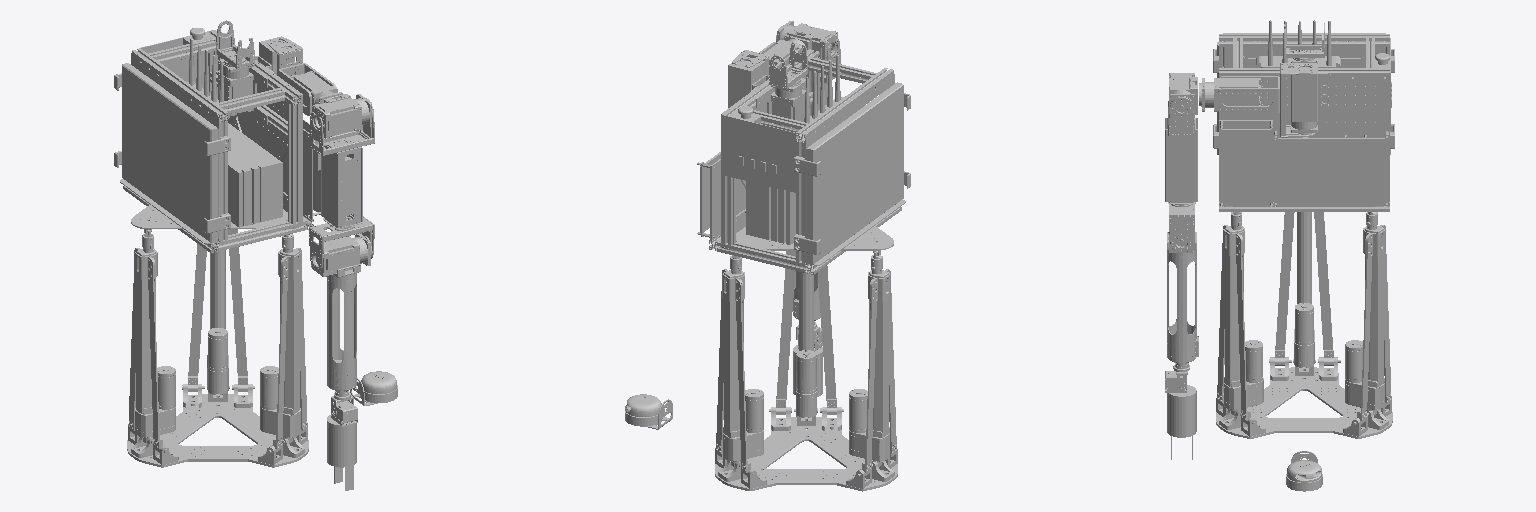
The robot description file, URDF, robot "hrvl_gbot":
<?xml version="1.0" ?>
<robot name="hrvl_gbot">
    <material name="orange">
        <color rgba="0.57 0.17 0.0 1.0" />
    </material>
    <material name="white">
        <color rgba="0.8 0.8 0.8 1.0" />
    </material>
    <material name="whiteT">
        <color rgba="0.8 0.8 0.8 0.5" />
    </material>
    <material name="steel">
        <color rgba="0.75 0.75 0.75 0.30" />
    </material>
    <material name="gray">
        <color rgba="0.2 0.2 0.2 0.9" />
    </material>
    <material name="black">
        <color rgba="0.0 0.0 0.0 1.0" />
    </material>

    <link name="base_footprint"/>
    <link name="base_link"/>
    <joint name="base_link_joint" type="fixed">
        <axis xyz="0 0 1" />
        <origin rpy="0 0 0" xyz="0 0 0.1" />
        <parent link="base_footprint" />
        <child link="base_link" />
    </joint>
    <link name="body_link">
        <visual>
            <geometry>
                <mesh filename="package://hrvl_gbot_description/stl/MobilePlatform_BodyOnly.STL" scale="0.001 0.001 0.001" />
            </geometry>
            <material name="white" />
            <origin rpy="0 -1.570796 3.141592" xyz="-0.2 0 0" />
        </visual>
        
        <inertial>
            <mass value="0.1" />
            <inertia ixx="0.03" iyy="0.03" izz="0.03" ixy="0.0" ixz="0.0" iyz="0.0" />
        </inertial>

    </link>
    <joint name="body_link_joint" type="fixed">
        <axis xyz="0 0 1" />
        <origin rpy="0 0 0" xyz="0 0 0" />
        <parent link="base_link" />
        <child link="body_link" />
    </joint>
    <!-- Sensors -->
    <link name="rotlidar_link">
        <visual>
            <geometry>
                <!--<cylinder length="0.055" radius=".075" /> -->
                <mesh filename="package://hrvl_gbot_description/stl/RotatingLidar3_front_only.STL" scale="0.001 0.001 0.001" />
            </geometry>
            <material name="white" />
            <origin rpy="0 0 0" xyz="-0.0513 -0.0278 -0.033" />
        </visual>
        
	<inertial>
            <mass value="0.1" />
            <inertia ixx="0.03" iyy="0.03" izz="0.03" ixy="0.0" ixz="0.0" iyz="0.0" />
        </inertial>

    </link>
    <joint name="rotlidar_joint" type="revolute">
        <axis xyz="1 0 0" />
        <limit effort="1000.0" lower="-3.141592" upper="3.141592" velocity="1.0" />
        <origin rpy="0 0 0" xyz="0.3133 0 0.26475" />
        <parent link="base_link" />
        <child link="rotlidar_link" />
    </joint>
    <link name="wheel1">
        <visual>
            <geometry>
                <mesh filename="package://hrvl_gbot_description/stl/MPO-500-WHEEL.dae" scale="-0.0006 0.0005 0.0006" />
            </geometry>
            <material name="white" />
            <origin rpy="0 0 0" xyz="0 0 0" />
        </visual>
        
	<inertial>
            <mass value="0.1" />
            <inertia ixx="0.03" iyy="0.03" izz="0.03" ixy="0.0" ixz="0.0" iyz="0.0" />
        </inertial>

    </link>
    <joint name="wheel1_joint" type="continuous">
        <axis xyz="0 1 0" />
        <limit effort="1000.0" velocity="1.0" />
        <origin rpy="0 0 0" xyz="0.20 0.225 -0.02" />
        <parent link="base_link" />
        <child link="wheel1" />
    </joint>
    <link name="wheel2">
        <visual>
            <geometry>
                <mesh filename="package://hrvl_gbot_description/stl/MPO-500-WHEEL.dae" scale="0.0006 0.0005 0.0006" />
            </geometry>
            <material name="white" />
            <origin rpy="0 0 0" xyz="0 0 0" />
        </visual>
        
	<inertial>
            <mass value="0.1" />
            <inertia ixx="0.03" iyy="0.03" izz="0.03" ixy="0.0" ixz="0.0" iyz="0.0" />
        </inertial>

    </link>
    <joint name="wheel2_joint" type="continuous">
        <axis xyz="0 1 0" />
        <limit effort="1000.0" velocity="1.0" />
        <origin rpy="0 0 0" xyz="0.20 -0.225 -0.02" />
        <parent link="base_link" />
        <child link="wheel2" />
    </joint>
    <link name="wheel3">
        <visual>
            <geometry>
                <mesh filename="package://hrvl_gbot_description/stl/MPO-500-WHEEL.dae" scale="0.0006 0.0005 0.0006" />
            </geometry>
            <material name="white" />
            <origin rpy="0 0 0" xyz="0 0 0" />
        </visual>
        
        <inertial>
            <mass value="0.1" />
            <inertia ixx="0.03" iyy="0.03" izz="0.03" ixy="0.0" ixz="0.0" iyz="0.0" />
        </inertial>

    </link>
    <joint name="wheel3_joint" type="continuous">
        <axis xyz="0 1 0" />
        <limit effort="1000.0" velocity="1.0" />
        <origin rpy="0 0 0" xyz="-0.20 0.225 -0.02" />
        <parent link="base_link" />
        <child link="wheel3" />
    </joint>
    <link name="wheel4">
        <visual>
            <geometry>
                <!--<cylinder length="0.055" radius=".075" /> -->
                <mesh filename="package://hrvl_gbot_description/stl/MPO-500-WHEEL.dae" scale="-0.0006 0.0005 0.0006" />
            </geometry>
            <material name="white" />
            <origin rpy="0 0 0" xyz="0 0 0" />
        </visual>
        
        <inertial>
            <mass value="0.1" />
            <inertia ixx="0.03" iyy="0.03" izz="0.03" ixy="0.0" ixz="0.0" iyz="0.0" />
        </inertial>

    </link>
    <joint name="wheel4_joint" type="continuous">
        <axis xyz="0 1 0" />
        <limit effort="1000.0" velocity="1.0" />
        <origin rpy="0 0 0" xyz="-0.20 -0.225 -0.02" />
        <parent link="base_link" />
        <child link="wheel4" />
    </joint>
    <link name="waist_link">
        <visual>
            <geometry>
                <mesh filename="package://hrvl_gbot_description/stl/Waist_Final_Simple.STL" scale="0.001 0.001 0.001" />
            </geometry>
            <material name="white" />
            <origin rpy="1.570796 0 1.570796 " xyz="-0.205 0 -0.136" />
        </visual>
        
        <inertial>
            <mass value="0.1" />
            <inertia ixx="0.03" iyy="0.03" izz="0.03" ixy="0.0" ixz="0.0" iyz="0.0" />
        </inertial>

    </link>
    <joint name="waist_link_joint" type="fixed">
        <axis xyz="0 0 1" />
        <origin rpy="0 0 0" xyz="-0.016 0 0.365" />
        <parent link="body_link" />
        <child link="waist_link" />
    </joint>
    <link name="torso_link_x" />
    <joint name="torso_joint_x" type="revolute">
        <axis xyz="1 0 0" />
        <origin rpy="0 0 0" xyz="-0.016 0 0.730" />
        <limit effort="1000.0" lower="-3.141592" upper="3.141592" velocity="1.0" />
        <parent link="base_link" />
        <child link="torso_link_x" />
    </joint>
    <link name="torso_link_y">
        <visual>
            <geometry>
                <mesh filename="package://hrvl_gbot_description/stl/BodyBox.STL" scale="0.001 0.001 0.001" />
            </geometry>
            <material name="white" />
            <!--<origin rpy="0 0 0" xyz="0 0 0.5125" />-->
            <origin rpy="1.570796 0 1.570796" xyz="0 0 0" />
        </visual>
        
        <inertial>
            <mass value="0.1" />
            <inertia ixx="0.03" iyy="0.03" izz="0.03" ixy="0.0" ixz="0.0" iyz="0.0" />
        </inertial>

    </link>
    <joint name="torso_joint_y" type="revolute">
        <axis xyz="0 1 0" />
        <origin rpy="0 0 0" xyz="0 0 0" />
        <limit effort="1000.0" lower="-3.141592" upper="3.141592" velocity="1.0" />
        <parent link="torso_link_x" />
        <child link="torso_link_y" />
    </joint>
    <link name="neck_link_z">
        <visual>
            <geometry>
                <!--> <box size="0.054 0.054 0.138" /> -->
                <mesh filename="package://hrvl_gbot_description/stl/FRP42-H210_with_axis.STL" scale="0.001 0.001 0.001" />
            </geometry>
            <material name="white" />
            <origin rpy="1.570796 0 1.570796" xyz="-0.021 -0.0415 -0.052" />
            <!--<origin rpy="1.570796 0 1.570796" xyz="0 0 0" /> -->
        </visual>
        
        <inertial>
            <mass value="0.1" />
            <inertia ixx="0.03" iyy="0.03" izz="0.03" ixy="0.0" ixz="0.0" iyz="0.0" />
        </inertial>

    </link>
    <joint name="neck_joint_z" type="revolute">
        <axis xyz="0 0 1" />
        <origin rpy="0 0 0" xyz="0 0 0.370" />
        <limit effort="1000.0" lower="-3.141592" upper="3.141592" velocity="1.0" />
        <parent link="torso_link_y" />
        <child link="neck_link_z" />
    </joint>
    <link name="neck_link_y">
        <visual>
            <geometry>
                <!--><box size="0.042 0.042 0.0835" /> -->
                <mesh filename="package://hrvl_gbot_description/stl/Head_PanTiltModule_Fixed.STL" scale="0.001 0.001 0.001" />
            </geometry>
            <material name="white" />
            <!--<origin rpy="0 0 0" xyz="0 0 0.5125" />-->
            <origin rpy="1.570796 0 1.570796" xyz="0 0 0" />
        </visual>
        
        <inertial>
            <mass value="0.1" />
            <inertia ixx="0.03" iyy="0.03" izz="0.03" ixy="0.0" ixz="0.0" iyz="0.0" />
        </inertial>

    </link>
    <joint name="neck_joint_y" type="revolute">
        <axis xyz="0 1 0" />
        <origin rpy="0 0 0" xyz="0 0 0" />
        <limit effort="1000.0" lower="-3.141592" upper="3.141592" velocity="1.0" />
        <parent link="neck_link_z" />
        <child link="neck_link_y" />
    </joint>
    <link name="lidar_link" />
    <joint name="lidar_joint" type="fixed">
        <axis xyz="0 0 1" />
        <origin rpy="0 0 0" xyz="0 0 0.07" />
        <parent link="neck_link_y" />
        <child link="lidar_link" />
    </joint>
    <link name="kinect_link" />
    <joint name="kinect_joint" type="fixed">
        <axis xyz="1 0 0" />
        <origin rpy="0 0 0" xyz="0.095 0 0.155" />
        <parent link="neck_link_y" />
        <child link="kinect_link" />
    </joint>
    <link name="zed_link" />
    <joint name="zed_joint" type="fixed">
        <axis xyz="1 0 0" />
        <origin rpy="0 0 0" xyz="0.1 0 0.200" />
        <parent link="neck_link_y" />
        <child link="zed_link" />
    </joint>
    <link name="arm_mid_motor_link" />
    <joint name="arm_mid_motor_joint" type="fixed">
        <axis xyz="0 0 1" />
        <origin rpy="0 0 0" xyz="0.1 0 0.273" />
        <parent link="torso_link_y" />
        <child link="arm_mid_motor_link" />
    </joint>
    <link name="arm_mid_motor_link_z">
        <visual>
            <geometry>
                <!-- <box size="0.054 0.210 0.054" /> -->
                <mesh filename="package://hrvl_gbot_description/stl/center_rotation_module_fixed.STL" scale="0.001 0.001 0.001" />
            </geometry>
            <material name="white" />
            <!--<origin rpy="0 0 0" xyz="0 0 0.5125" />-->
            <origin rpy="-1.570796 0 -1.570796" xyz="-0.027 0.21752 0.027" />
        </visual>
        
        <inertial>
            <mass value="0.1" />
            <inertia ixx="0.03" iyy="0.03" izz="0.03" ixy="0.0" ixz="0.0" iyz="0.0" />
        </inertial>

    </link>
    <joint name="arm_mid_motor_joint_z" type="revolute">
        <axis xyz="0 0 1" />
        <origin rpy="3.141592 0 0" xyz="0 0 0" />
        <limit effort="1000.0" lower="-3.141592" upper="0" velocity="1.0" />
        <parent link="arm_mid_motor_link" />
        <child link="arm_mid_motor_link_z" />
    </joint>
    <link name="arm_shoulder_link_y">
        <visual>
            <geometry>
                <mesh filename="package://hrvl_gbot_description/stl/ShoulderYChild.STL" scale="0.001 0.001 0.001" />
            </geometry>
            <material name="white" />
            <origin rpy="-1.570796 0 0" xyz="-0.054 0 0.054" />
        </visual>
        
        <inertial>
            <mass value="0.1" />
            <inertia ixx="0.03" iyy="0.03" izz="0.03" ixy="0.0" ixz="0.0" iyz="0.0" />
        </inertial>

    </link>
    <joint name="arm_shoulder_joint_y" type="revolute">
        <axis xyz="0 1 0" />
        <origin rpy="0 0 0" xyz="0 0.250 0" />
        <limit effort="1000.0" lower="-3.141592" upper="3.141592" velocity="1.0" />
        <parent link="arm_mid_motor_link_z" />
        <child link="arm_shoulder_link_y" />
    </joint>
    <link name="arm_shoulder_link_x">
        <visual>
            <geometry>
                <mesh filename="package://hrvl_gbot_description/stl/ArmUpperZ.STL" scale="0.001 0.001 0.001" />
            </geometry>
            <material name="white" />
            <!--<origin rpy="0 0 0" xyz="0 0 0.5125" />-->
            <origin rpy="3.141592 0 0" xyz="-0.06 0.027 0.0155" />
        </visual>
        
        <inertial>
            <mass value="0.1" />
            <inertia ixx="0.03" iyy="0.03" izz="0.03" ixy="0.0" ixz="0.0" iyz="0.0" />
        </inertial>

    </link>
    <joint name="arm_shoulder_joint_x" type="revolute">
        <axis xyz="1 0 0" />
        <origin rpy="3.141592 0 0" xyz="0 0 0" />
        <limit effort="1000.0" lower="-3.141592" upper="3.141592" velocity="1.0" />
        <parent link="arm_shoulder_link_y" />
        <child link="arm_shoulder_link_x" />
    </joint>
    <link name="arm_shoulder_link_z">
        <visual>
            <geometry>
                <!-- <cylinder length="0.050" radius=".030" /> -->
                <mesh filename="package://hrvl_gbot_description/stl/ArmElbow.STL" scale="0.001 0.001 0.001" />
            </geometry>
            <material name="white" />
            <origin rpy="1.570796 0 1.570796" xyz="-0.06 -0.027 -0.0235" />
        </visual>
        
        <inertial>
            <mass value="0.1" />
            <inertia ixx="0.03" iyy="0.03" izz="0.03" ixy="0.0" ixz="0.0" iyz="0.0" />
        </inertial>

    </link>
    <joint name="arm_shoulder_joint_z" type="revolute">
        <axis xyz="0 0 -1" />
        <limit effort="1000.0" lower="-3.141592" upper="3.141592" velocity="1.0" />
        <origin rpy="0 0 0" xyz="0 0 -0.305" />
        <parent link="arm_shoulder_link_x" />
        <child link="arm_shoulder_link_z" />
    </joint>
    <link name="arm_lower_link_x">
        <visual>
            <geometry>
                <mesh filename="package://hrvl_gbot_description/stl/ArmLower.STL" scale="0.001 0.001 0.001" />
            </geometry>
            <material name="white" />
            <origin rpy="3.141592 0 -1.570796" xyz="0.051 0.0155 0.025" />
        </visual>
        
	<inertial>
            <mass value="0.1" />
            <inertia ixx="0.03" iyy="0.03" izz="0.03" ixy="0.0" ixz="0.0" iyz="0.0" />
        </inertial>

    </link>
    <joint name="arm_lower_joint_x" type="revolute">
        <axis xyz="1 0 0" />
        <origin rpy="0 0 0" xyz="0 0 0" />
        <limit effort="1000.0" lower="-3.141592" upper="3.141592" velocity="1.0" />
        <parent link="arm_shoulder_link_z" />
        <child link="arm_lower_link_x" />
    </joint>
    <link name="wrist_roll_link">
        <visual>
            <geometry>
                <mesh filename="package://hrvl_gbot_description/stl/wrist_roll.STL" scale="0.001 0.001 0.001" />
            </geometry>
            <material name="white" />
            <origin rpy="3.141592 0 0" xyz="-0.02 0.017 0.021" />
        </visual>
        
	<inertial>
            <mass value="0.1" />
            <inertia ixx="0.03" iyy="0.03" izz="0.03" ixy="0.0" ixz="0.0" iyz="0.0" />
        </inertial>

    </link>
    <joint name="wrist_roll_joint" type="revolute">
        <axis xyz="0 0 -1" />
        <limit effort="1000.0" lower="-3.141592" upper="3.141592" velocity="1.0" />
        <origin rpy="0 0 0" xyz="0 0 -0.300" />
        <parent link="arm_lower_link_x" />
        <child link="wrist_roll_link" />
    </joint>
    <link name="wrist_pitch_link">
        <visual>
            <geometry>
                <mesh filename="package://hrvl_gbot_description/stl/wrist_end.STL" scale="0.001 0.001 0.001" />
            </geometry>
            <material name="white" />
            <origin rpy="3.141592 1.570796 3.141592" xyz="-0.02 -0.03525 0.01425" />
        </visual>
        
	<inertial>
            <mass value="0.1" />
            <inertia ixx="0.03" iyy="0.03" izz="0.03" ixy="0.0" ixz="0.0" iyz="0.0" />
        </inertial>

    </link>
    <joint name="wrist_pitch_joint" type="revolute">
        <axis xyz="1 0 0" />
        <limit effort="1000.0" lower="-3.141592" upper="3.141592" velocity="1.0" />
        <origin rpy="0 0 0" xyz="0 0 -0.040" />
        <parent link="wrist_roll_link" />
        <child link="wrist_pitch_link" />
    </joint>
    <link name="tool_link">
        <visual>
            <geometry>
                <cylinder length="0.0925" radius=".03" />
            </geometry>
            <material name="white" />
            <origin rpy="0 1.570796 0" xyz="-0.04514 0 0" />
        </visual>
    </link>
    <joint name="tool_link_joint" type="fixed">
        <axis xyz="1 0 0" />
        <origin rpy="0 1.570996 0" xyz="0.00 0 -0.1125" />
        <parent link="wrist_pitch_link" />
        <child link="tool_link" />
    </joint>
    <link name="left_gripper_link">
        <visual>
            <geometry>
                <box size="0.02 0.002 0.055" />
            </geometry>
            <material name="white" />
            <origin rpy="0 1.570796 0" xyz="-0.0275 0 0" />
        </visual>
    </link>
    <joint name="gripper_joint" type="prismatic">
        <axis xyz="0 1 0" />
        <limit effort="1000.0" lower="0.002" upper="0.04" velocity="1.0" />
        <parent link="tool_link" />
        <origin rpy="0 0 0" xyz=".0576 0 0.005" />
        <child link="left_gripper_link" />
    </joint>
    <link name="right_gripper_link">
        <visual>
            <geometry>
                <box size="0.02 0.002 0.055" />
            </geometry>
            <material name="white" />
            <origin rpy="0 1.570796 0" xyz="-0.0275 0 0" />
        </visual>
    </link>
    <joint name="sub_gripper_joint" type="prismatic">
        <axis xyz="0 -1 0" />
        <mimic joint="gripper_joint" />
        <limit effort="1000.0" lower="0.002" upper="0.04" velocity="1.0" />
        <origin rpy="0 0 0" xyz="0.0576 0 0.005" />
        <parent link="tool_link" />
        <child link="right_gripper_link" />
    </joint>
</robot>

--- Facts derived from the render (not from the file) ---
3 views of the same robot in one strip: view 1: azimuth 30°, elevation 25°; view 2: azimuth 150°, elevation 25°; view 3: azimuth 270°, elevation 25° (orthographic).
Model hrvl_gbot with 27 links and 26 joints (12 revolute, 4 continuous, 2 prismatic, 8 fixed), rooted at base_footprint, posed all joints at 0 but 2 set to mid-range because 0 is outside their limits (gripper_joint = 0.021, sub_gripper_joint = 0.021).
Links seen in each view (by area): view 1: torso_link_y, waist_link, arm_lower_link_x, arm_shoulder_link_x, arm_mid_motor_link_z, arm_shoulder_link_y, tool_link, rotlidar_link, arm_shoulder_link_z, neck_link_z, wrist_pitch_link; view 2: torso_link_y, waist_link, rotlidar_link, arm_mid_motor_link_z, arm_shoulder_link_y, neck_link_z; view 3: torso_link_y, waist_link, arm_mid_motor_link_z, arm_shoulder_link_x, arm_lower_link_x, tool_link, rotlidar_link, arm_shoulder_link_z, arm_shoulder_link_y, neck_link_z.
Boxes of the visible links, x1=… form: torso_link_y: x1=114, y1=28, x2=320, y2=252; waist_link: x1=127, y1=205, x2=308, y2=467; arm_lower_link_x: x1=311, y1=233, x2=372, y2=391; arm_shoulder_link_x: x1=309, y1=106, x2=374, y2=230; arm_mid_motor_link_z: x1=267, y1=37, x2=342, y2=115; arm_shoulder_link_y: x1=312, y1=94, x2=372, y2=138; tool_link: x1=327, y1=415, x2=356, y2=467; rotlidar_link: x1=350, y1=371, x2=397, y2=405; arm_shoulder_link_z: x1=309, y1=216, x2=374, y2=270; neck_link_z: x1=216, y1=20, x2=254, y2=68; wrist_pitch_link: x1=331, y1=401, x2=357, y2=426; torso_link_y: x1=697, y1=49, x2=910, y2=274; waist_link: x1=715, y1=226, x2=897, y2=491; rotlidar_link: x1=625, y1=394, x2=672, y2=429; arm_mid_motor_link_z: x1=732, y1=35, x2=809, y2=75; arm_shoulder_link_y: x1=776, y1=21, x2=837, y2=60; neck_link_z: x1=769, y1=42, x2=807, y2=88; torso_link_y: x1=1213, y1=20, x2=1394, y2=211; waist_link: x1=1216, y1=206, x2=1392, y2=438; arm_mid_motor_link_z: x1=1199, y1=63, x2=1315, y2=137; arm_shoulder_link_x: x1=1165, y1=98, x2=1197, y2=206; arm_lower_link_x: x1=1167, y1=223, x2=1198, y2=363; tool_link: x1=1167, y1=385, x2=1196, y2=437; rotlidar_link: x1=1286, y1=451, x2=1322, y2=491; arm_shoulder_link_z: x1=1169, y1=204, x2=1194, y2=252; arm_shoulder_link_y: x1=1169, y1=73, x2=1197, y2=117; neck_link_z: x1=1284, y1=23, x2=1324, y2=57.
Size in the robot's own frame: 0.6024 by 0.4713 by 0.9286 metres.
Meshes: 14 distinct files referenced, 11 mesh visuals loaded (11 binary STL); not drawn: 6 (reference not matched to a file when rendering).
